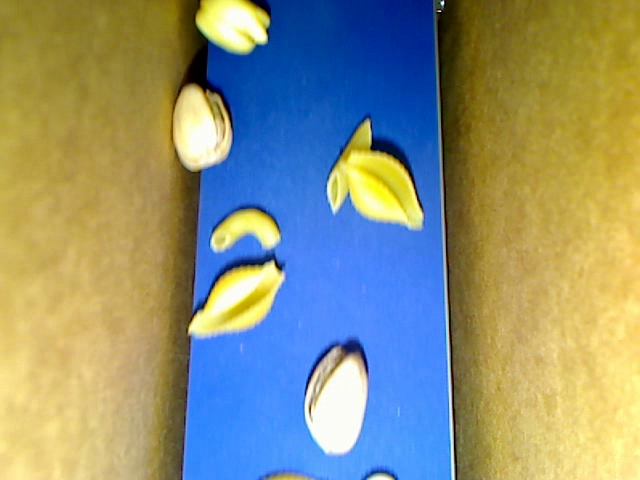elbow: (209, 208, 282, 253)
penne: (325, 116, 372, 215)
shell: (186, 259, 285, 339), (344, 150, 426, 231)
tortellini: (196, 1, 269, 56)
